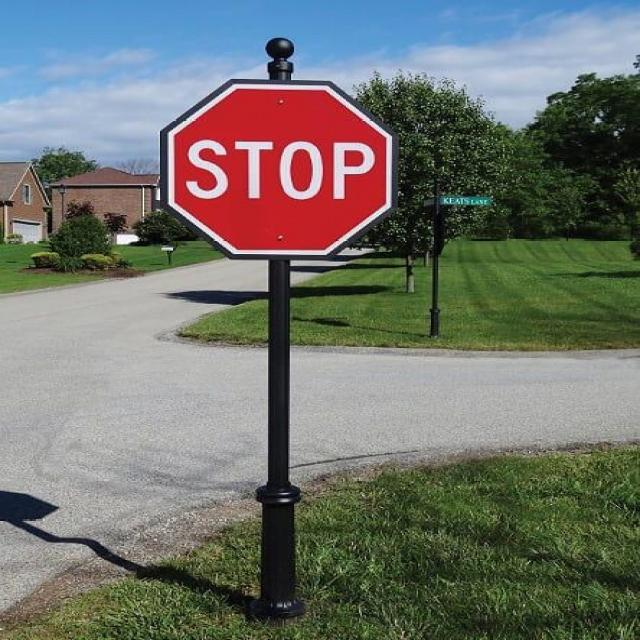stop: (159, 77, 396, 259)
